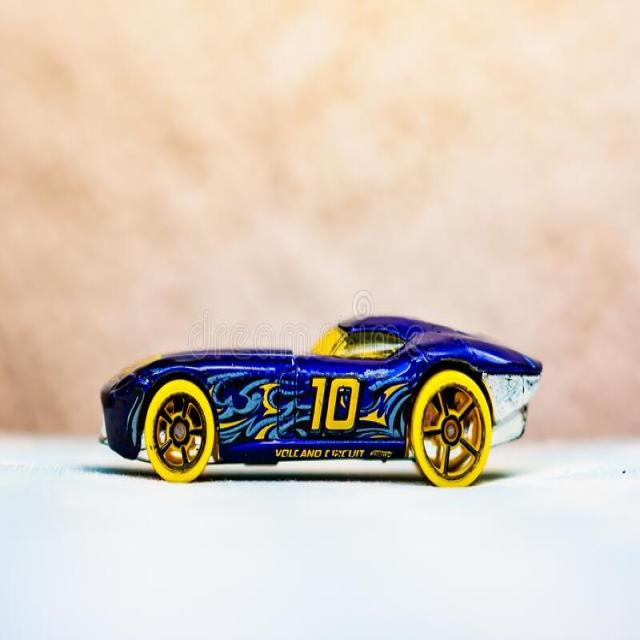Car: (98, 313, 542, 487)
